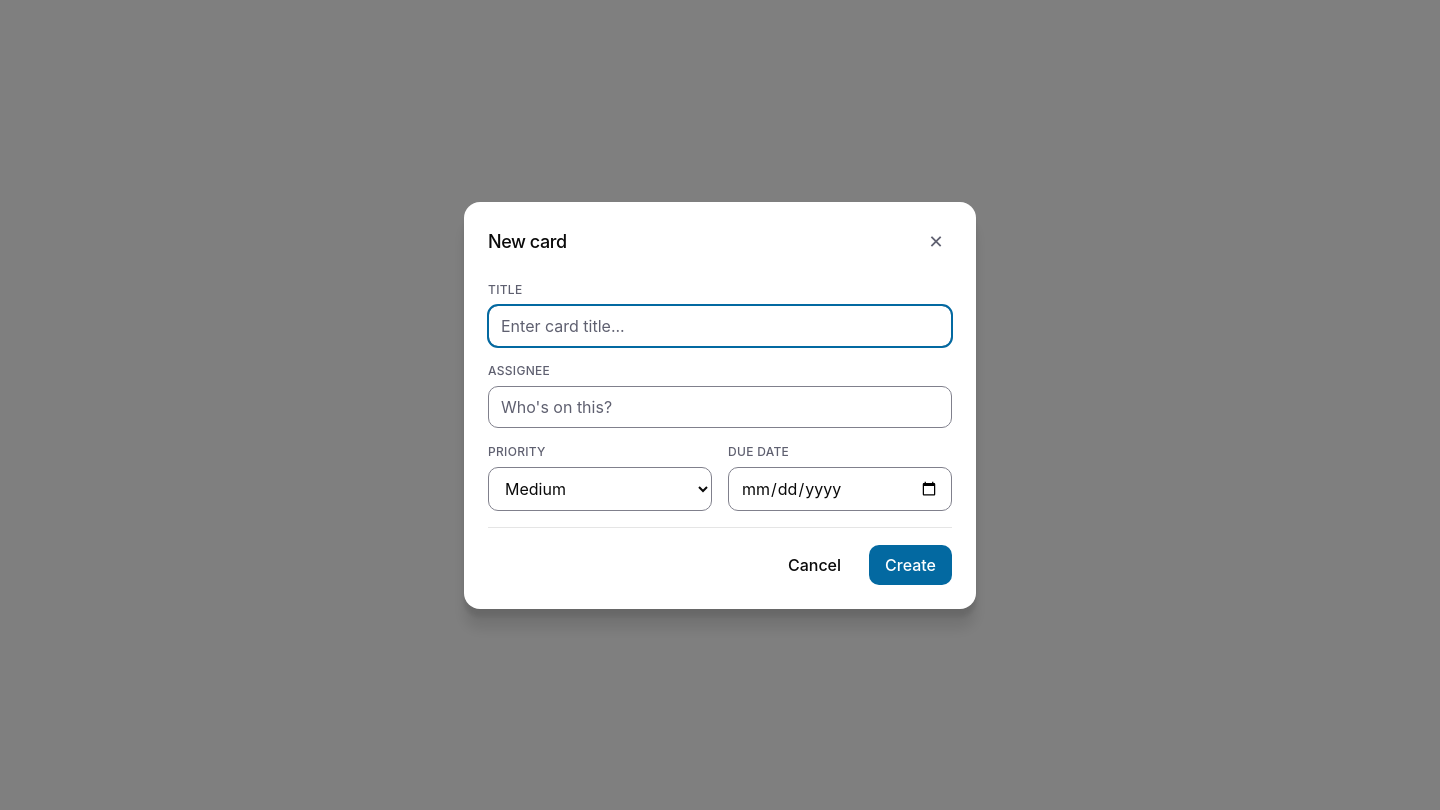
Test: CardModal – create › requires a title and announces the error accessibly
Click the button "Create": (910, 564) [869,544,952,584]
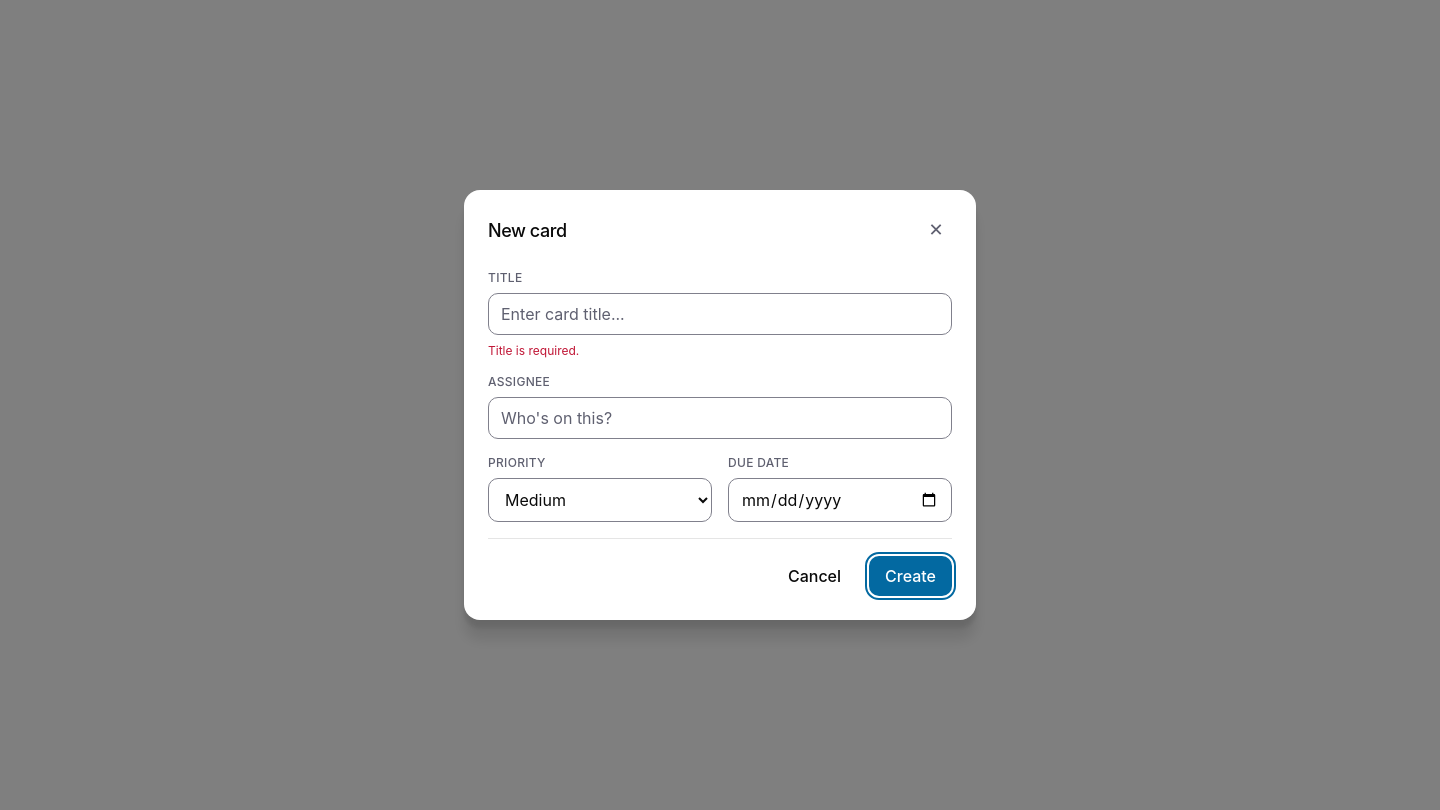
Now the message reads "Title is required.", box [488,343,579,358]
